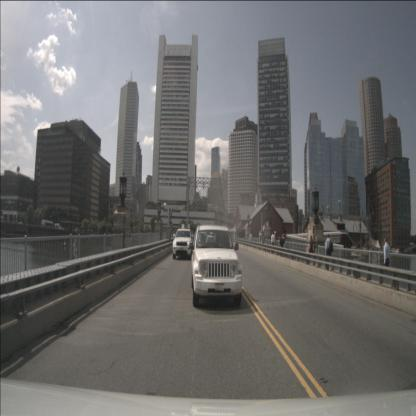human-pedestrian-adult: (324, 233, 334, 270), (383, 236, 390, 283), (308, 235, 314, 264), (280, 234, 286, 254), (271, 231, 275, 254), (273, 231, 277, 253), (249, 232, 252, 248), (245, 234, 248, 248)
vehicle-bus-rigid: (41, 220, 54, 230)
vehicle-car: (192, 224, 242, 307), (172, 228, 194, 259), (55, 223, 60, 230)
